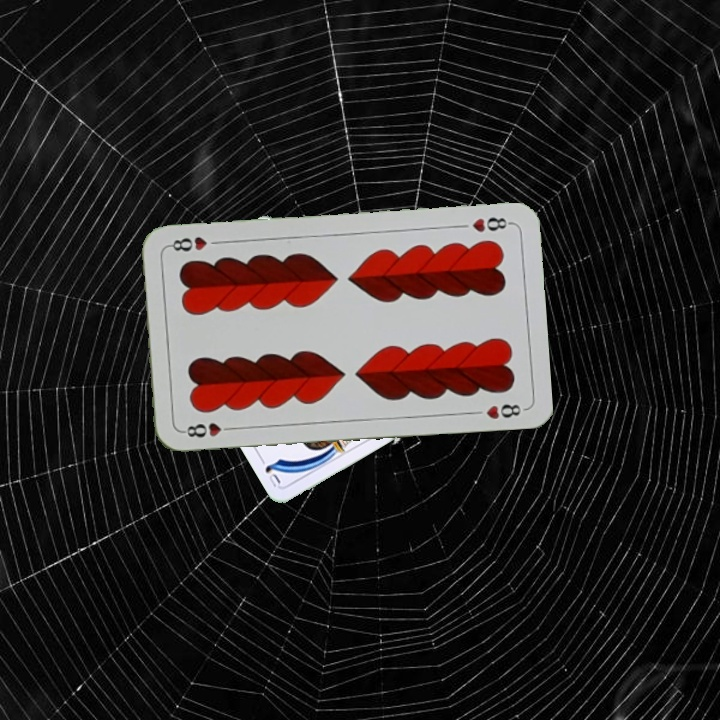H8: (178, 419, 237, 440), (468, 213, 514, 235)
